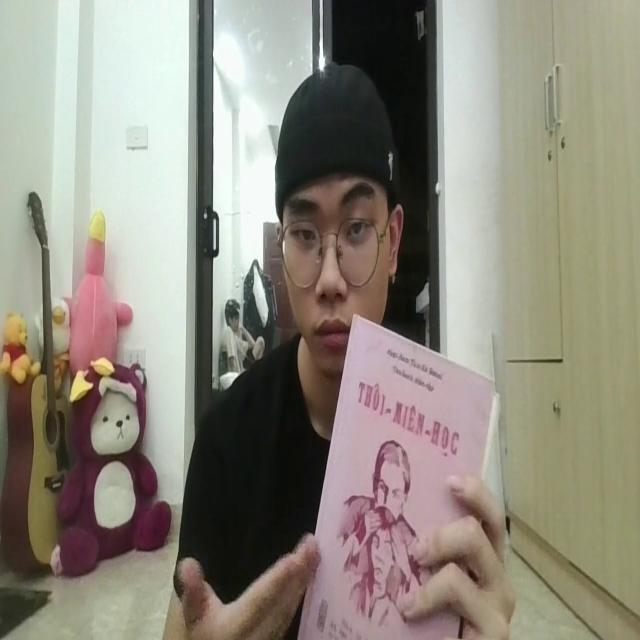book: (302, 302, 496, 640)
student: (185, 58, 497, 640)
